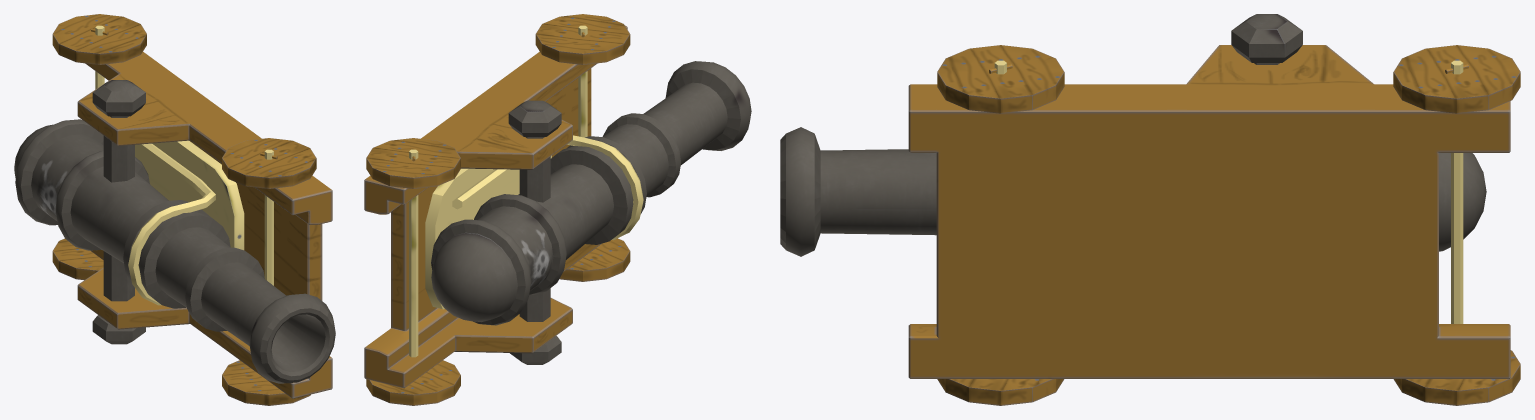
The model's file is SM_PirateLauncher.fbx.
3 renders of one model, left to right at view 1: azimuth 30°, elevation 25°; view 2: azimuth 150°, elevation 25°; view 3: azimuth 270°, elevation 25°, orthographic. The views are drawn at different scales.
Visible parts, largest first — view 1: SM_PirateLauncher; view 2: SM_PirateLauncher; view 3: SM_PirateLauncher.
Boxes of the visible parts, x1=… form: SM_PirateLauncher: x1=14, y1=14, x2=335, y2=405; SM_PirateLauncher: x1=364, y1=14, x2=751, y2=405; SM_PirateLauncher: x1=780, y1=14, x2=1520, y2=405.
Size of the model in its own units: 7 by 23.54 by 12.32.
Materials: 1 (1 with a texture image).
